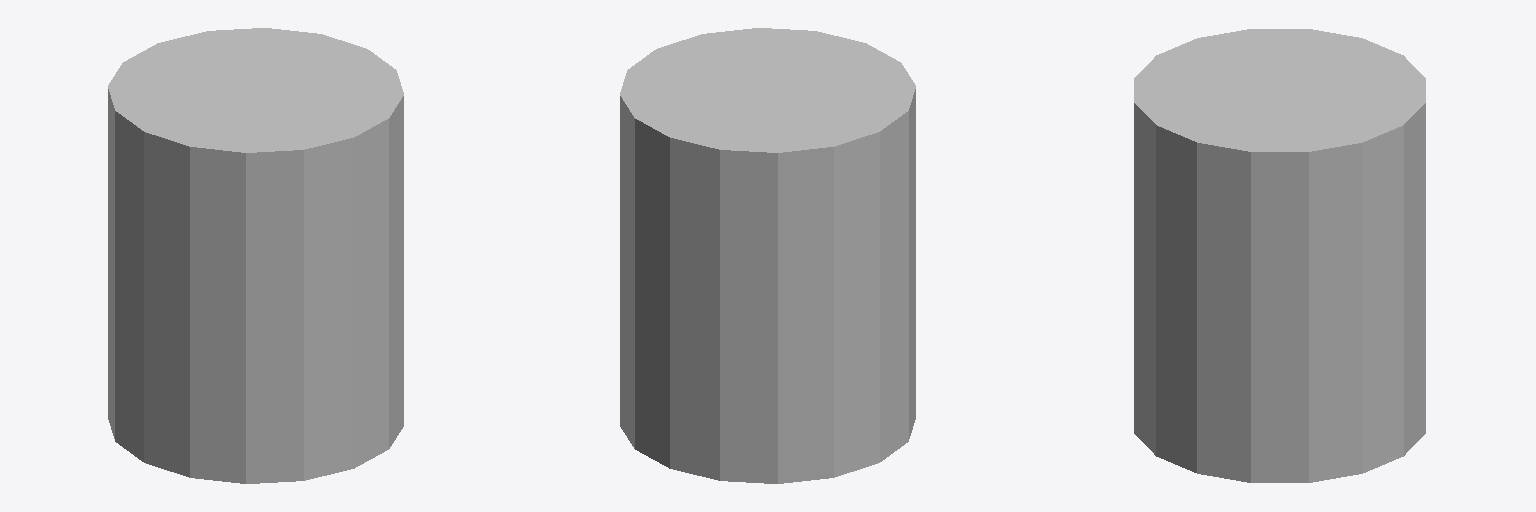
File: Knight_Motor_A_Collider.obj
The picture shows the model from 3 angles: view 1: azimuth 30°, elevation 25°; view 2: azimuth 150°, elevation 25°; view 3: azimuth 270°, elevation 25°; orthographic projection.
Visible parts, largest first — view 1: Knight_Motor_A_Collider; view 2: Knight_Motor_A_Collider; view 3: Knight_Motor_A_Collider.
Part boxes in pixels (left/top/right/bottom): Knight_Motor_A_Collider: left=108, top=28, right=403, bottom=483; Knight_Motor_A_Collider: left=620, top=28, right=915, bottom=483; Knight_Motor_A_Collider: left=1134, top=29, right=1425, bottom=482.
Bounding box in the file's own units: 0.9375 × 1.18 × 0.9375.